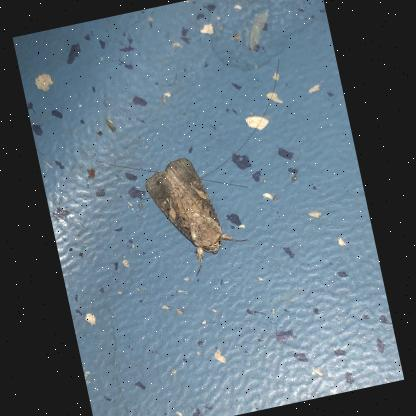Fall Armyworm Moth: (140, 146, 254, 284)
